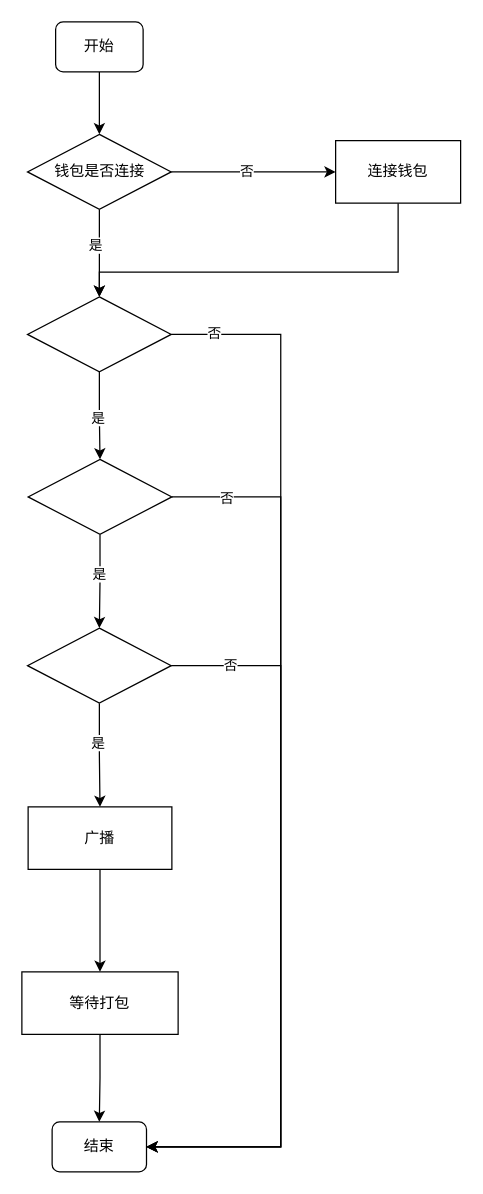
The diagram is 483 pixels wide and 1194 high, and some of its shapes have lost their labels. The shapes that lost their labels are listed below. From the top down, each one's centre as x and y in pixels, then its label:
point 98,334: 余额是否足够
point 99,496: 是否确认
point 98,665: gas费足够？
